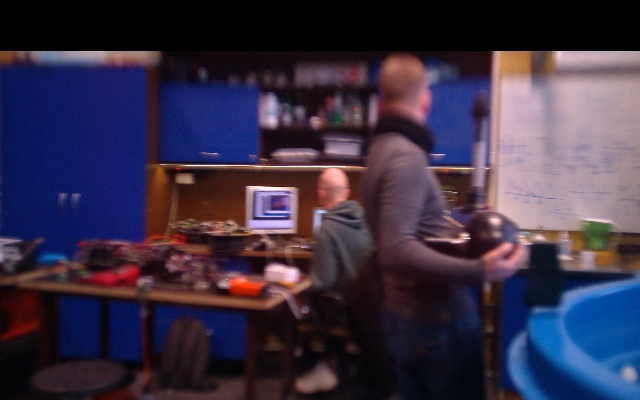black: (471, 140, 487, 195)
